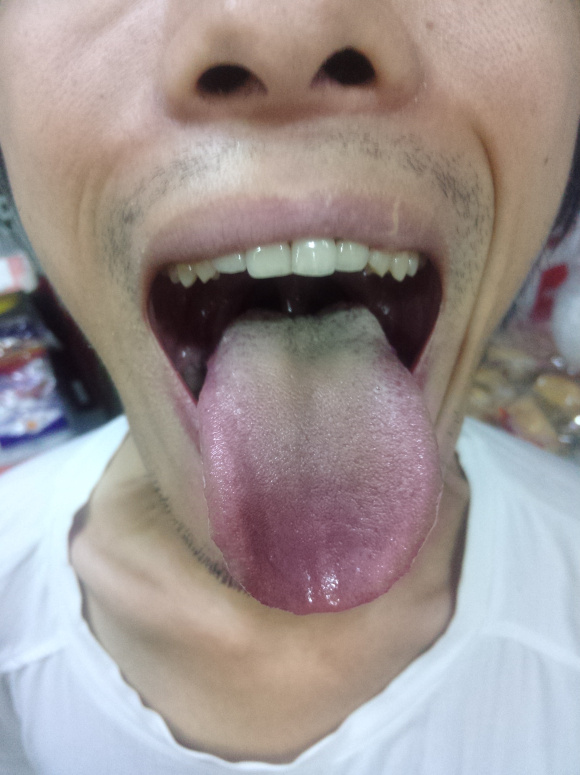baitaishe: (196, 303, 442, 614)
zishe: (196, 303, 442, 614)
